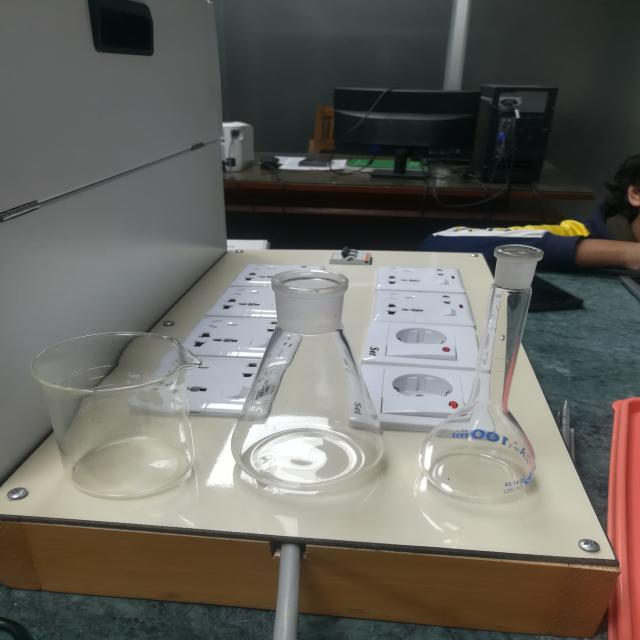Beaker: (15, 318, 218, 509)
Conical_Flask: (230, 253, 396, 511)
Volumetric_Flask: (413, 229, 576, 510)
